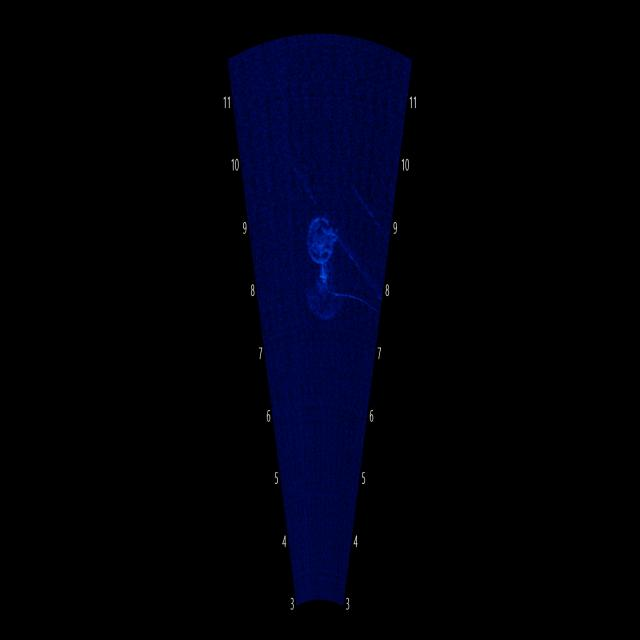circle: (302, 179, 340, 279)
